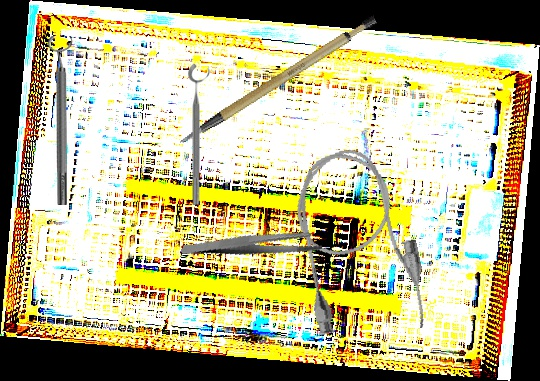Cannula: (282, 138, 435, 350)
Dressing Forceps: (180, 207, 325, 282)
Fixation Ring: (47, 36, 75, 205), (188, 64, 211, 205)
Scalpel Handle: (163, 12, 391, 146)
